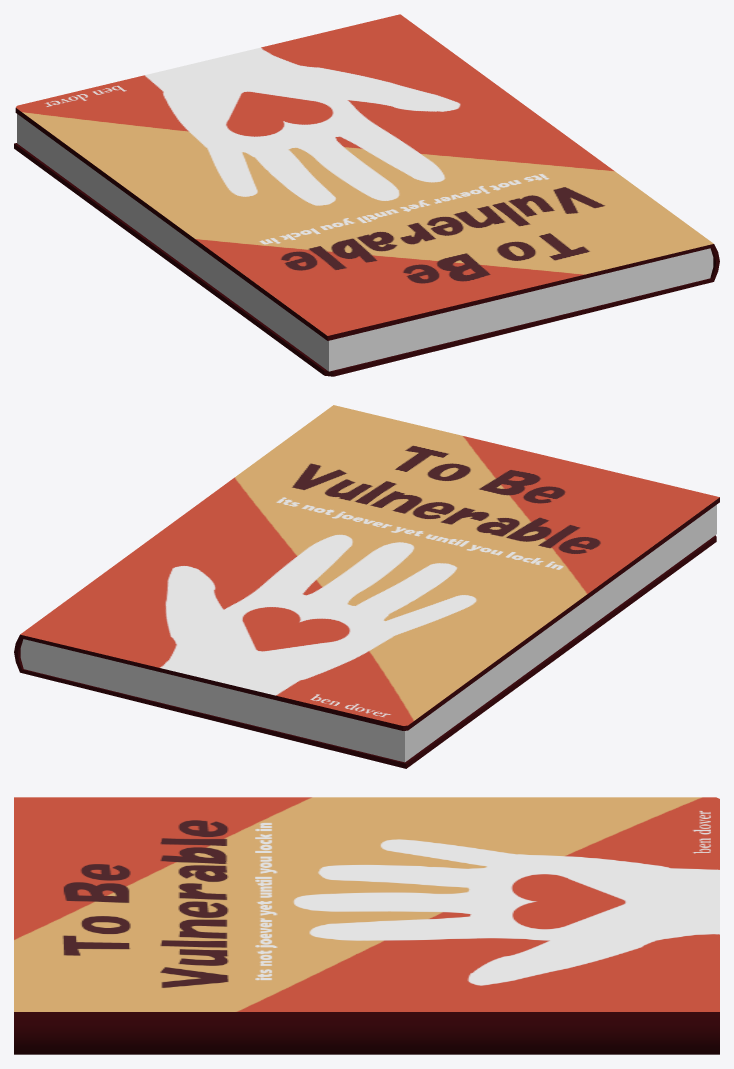
Rendered from Single Book.fbx.
3 views of the same model, one above another, from view 1: azimuth 30°, elevation 25°; view 2: azimuth 150°, elevation 25°; view 3: azimuth 270°, elevation 25° (orthographic). The views are drawn at different scales.
Visible parts, largest first — view 1: Book3; view 2: Book3; view 3: Book3.
Part boxes in pixels (x1,y1,x2,y2): Book3: [14, 14, 719, 376]; Book3: [14, 405, 719, 768]; Book3: [14, 797, 719, 1054].
Bounding box in the file's own units: 37.42 × 3.85 × 51.82.
